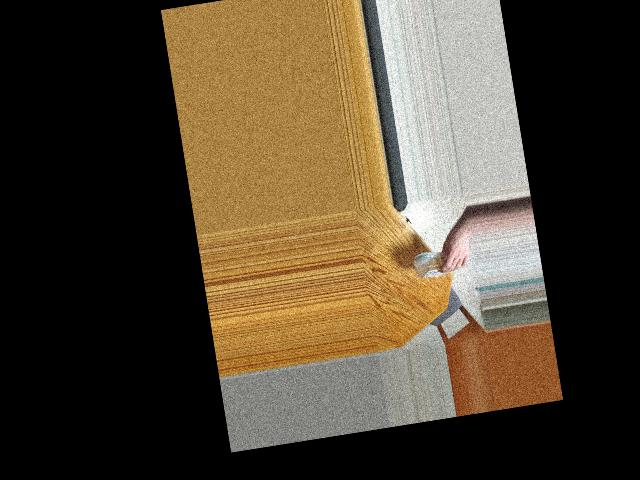cheese: (409, 232, 455, 289)
